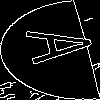A: (25, 25, 100, 65)
